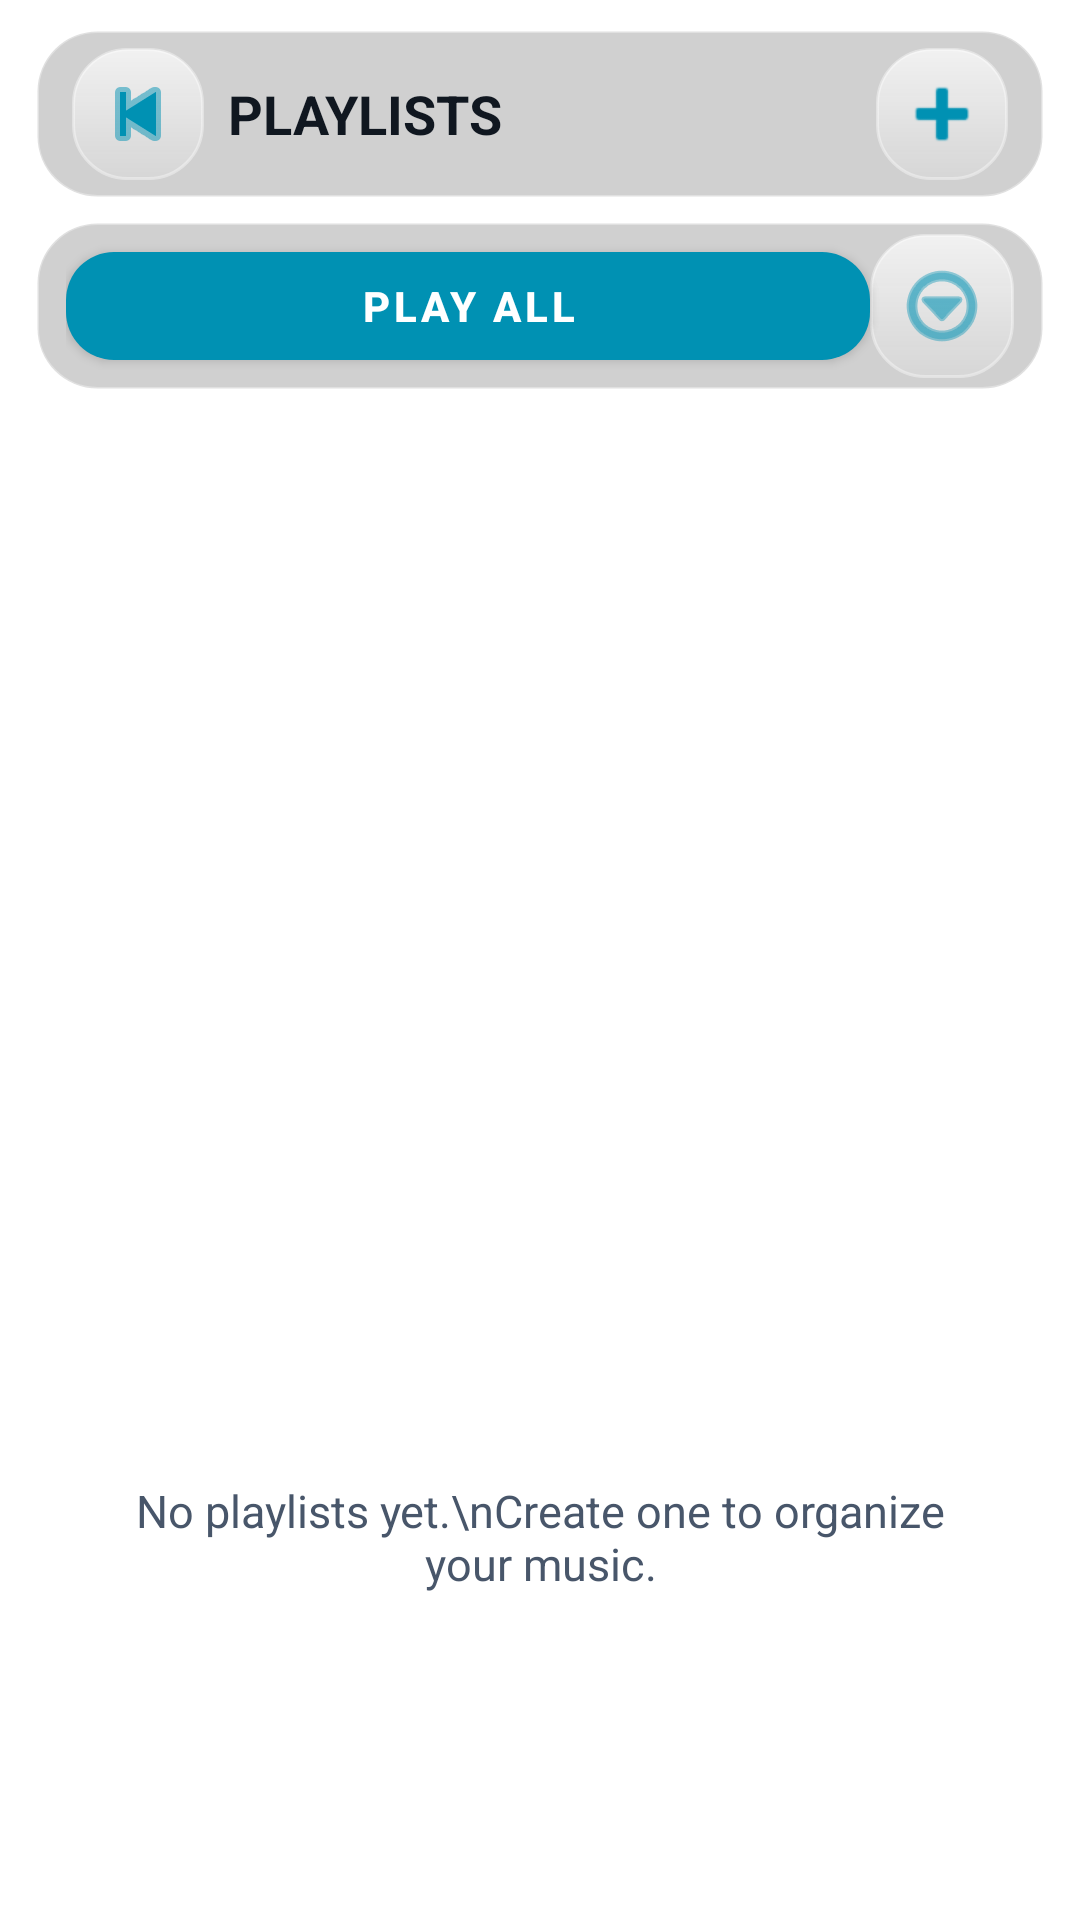

Point at icon controls on the screen. Image size 1080x1920, points as (x,y).
Back: (138,114)
Create playlist: (942,114)
Playlist options: (942,306)
